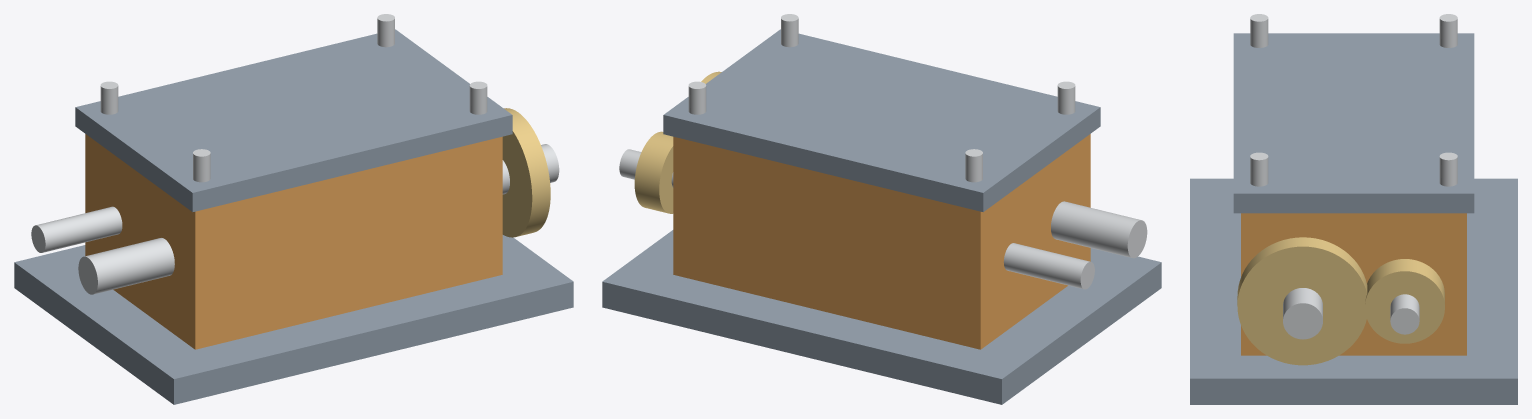
File: gearbox.glb
The picture shows the model from 3 angles, left to right: view 1: azimuth 30°, elevation 25°; view 2: azimuth 150°, elevation 25°; view 3: azimuth 270°, elevation 25°; orthographic projection. The views are drawn at different scales.
Visible parts, largest first — view 1: case, cover, base, shaft (×2), wheel, bolt 1, bolt 4, bolt 3, bolt 2; view 2: case, cover, base, shaft (×2), pinion, bolt 3, bolt 2, bolt 1, bolt 4; view 3: cover, base, case, wheel, pinion, shaft (×2), bolt 2, bolt 4, bolt 1, bolt 3.
Boxes of the visible parts, bbox=[...] form: case: bbox=[85, 134, 502, 349]; cover: bbox=[75, 29, 512, 211]; base: bbox=[14, 235, 573, 404]; shaft (×2): bbox=[31, 144, 559, 294]; wheel: bbox=[502, 108, 550, 237]; bolt 1: bbox=[100, 81, 118, 114]; bolt 4: bbox=[469, 81, 487, 114]; bolt 3: bbox=[193, 149, 210, 182]; bolt 2: bbox=[377, 14, 394, 47]; case: bbox=[673, 134, 1090, 349]; cover: bbox=[663, 29, 1100, 211]; base: bbox=[602, 230, 1161, 404]; shaft (×2): bbox=[619, 149, 1147, 289]; pinion: bbox=[634, 131, 673, 213]; bolt 3: bbox=[1057, 81, 1075, 114]; bolt 2: bbox=[688, 81, 706, 114]; bolt 1: bbox=[965, 149, 982, 182]; bolt 4: bbox=[781, 14, 798, 47]; cover: bbox=[1233, 33, 1474, 213]; base: bbox=[1190, 178, 1517, 404]; case: bbox=[1241, 213, 1466, 355]; wheel: bbox=[1237, 237, 1367, 365]; pinion: bbox=[1365, 259, 1444, 343]; shaft (×2): bbox=[1283, 288, 1419, 339]; bolt 2: bbox=[1439, 152, 1457, 186]; bolt 4: bbox=[1250, 152, 1268, 186]; bolt 1: bbox=[1439, 14, 1457, 47]; bolt 3: bbox=[1250, 14, 1268, 47].
Bounding box in the file's own units: 1.5 × 0.66 × 0.9.
